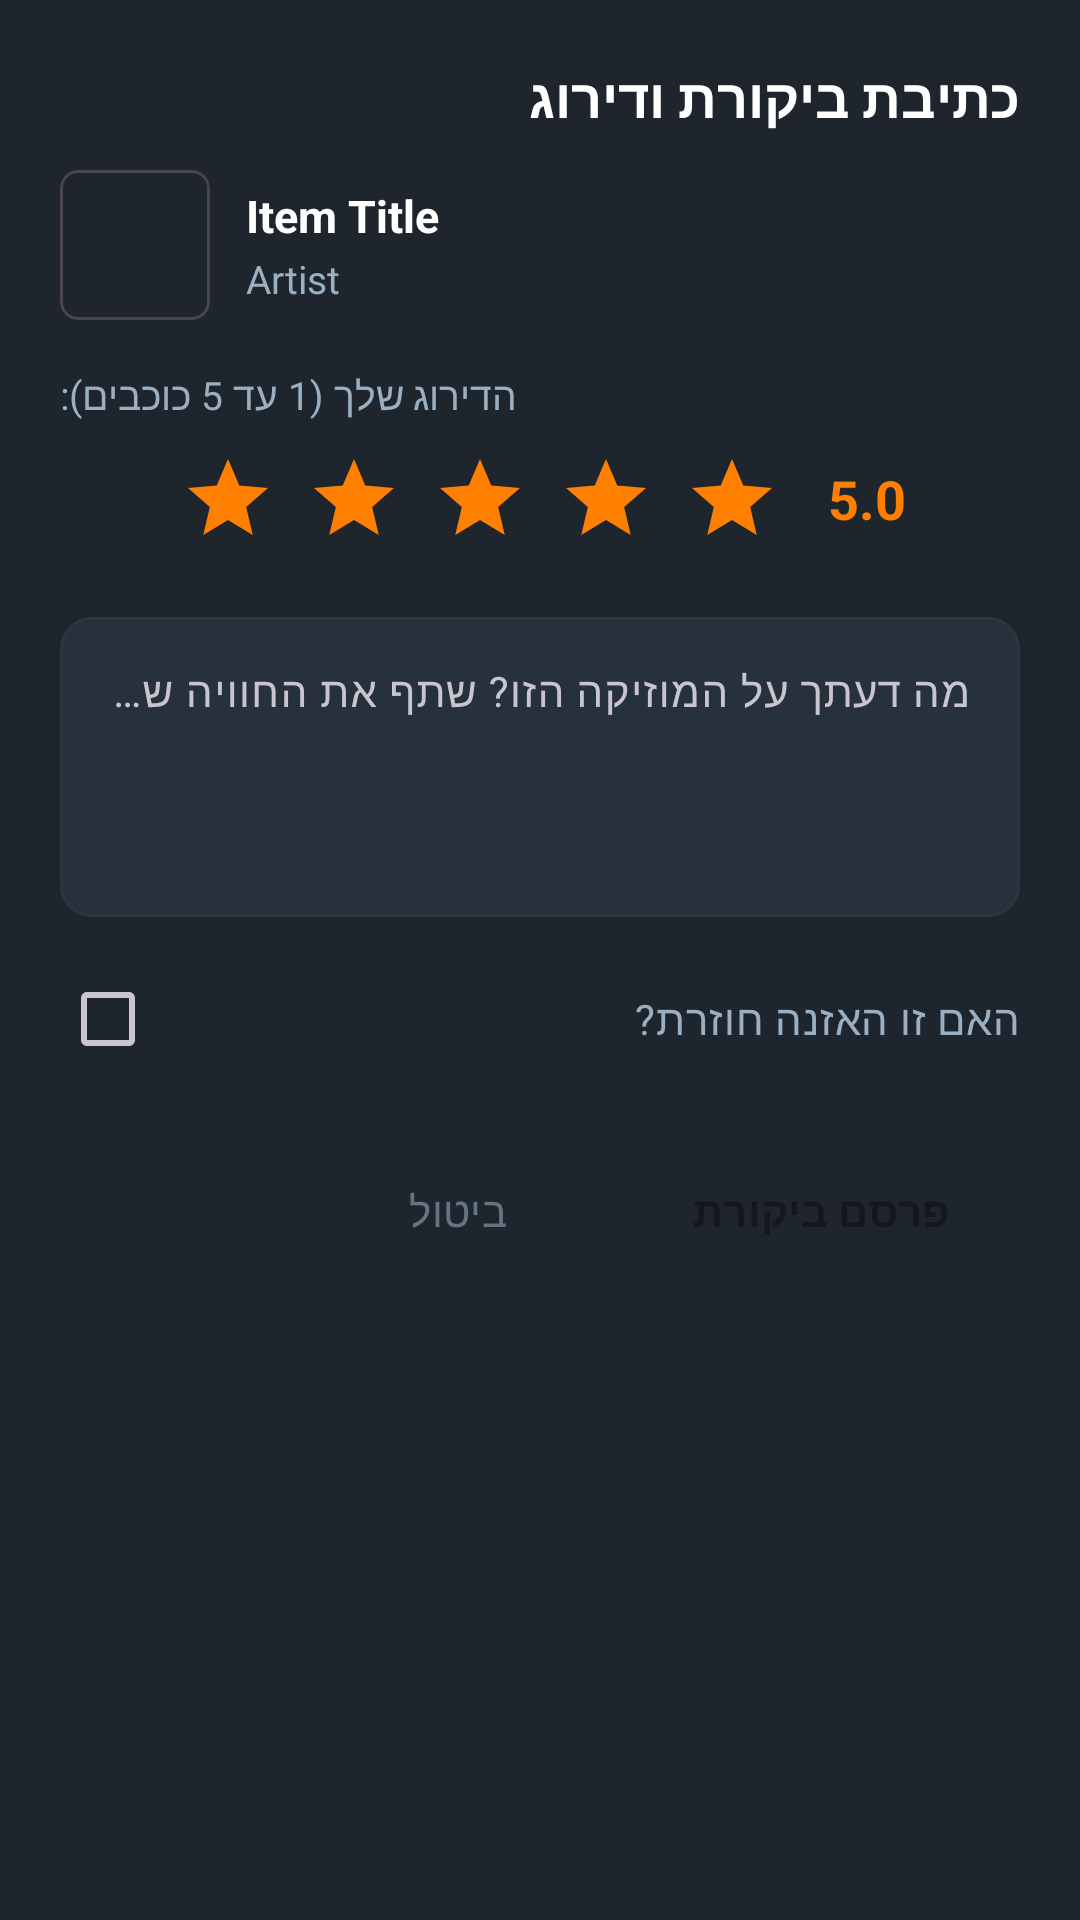

Where icons sit on this 1080*1920 app screen, as [x1=x1, y1=y1, x2=x2, y2=y2]:
star full: [x1=188, y1=459, x2=268, y2=535], [x1=314, y1=459, x2=394, y2=535], [x1=440, y1=459, x2=520, y2=535], [x1=566, y1=459, x2=646, y2=535], [x1=692, y1=459, x2=772, y2=535]
